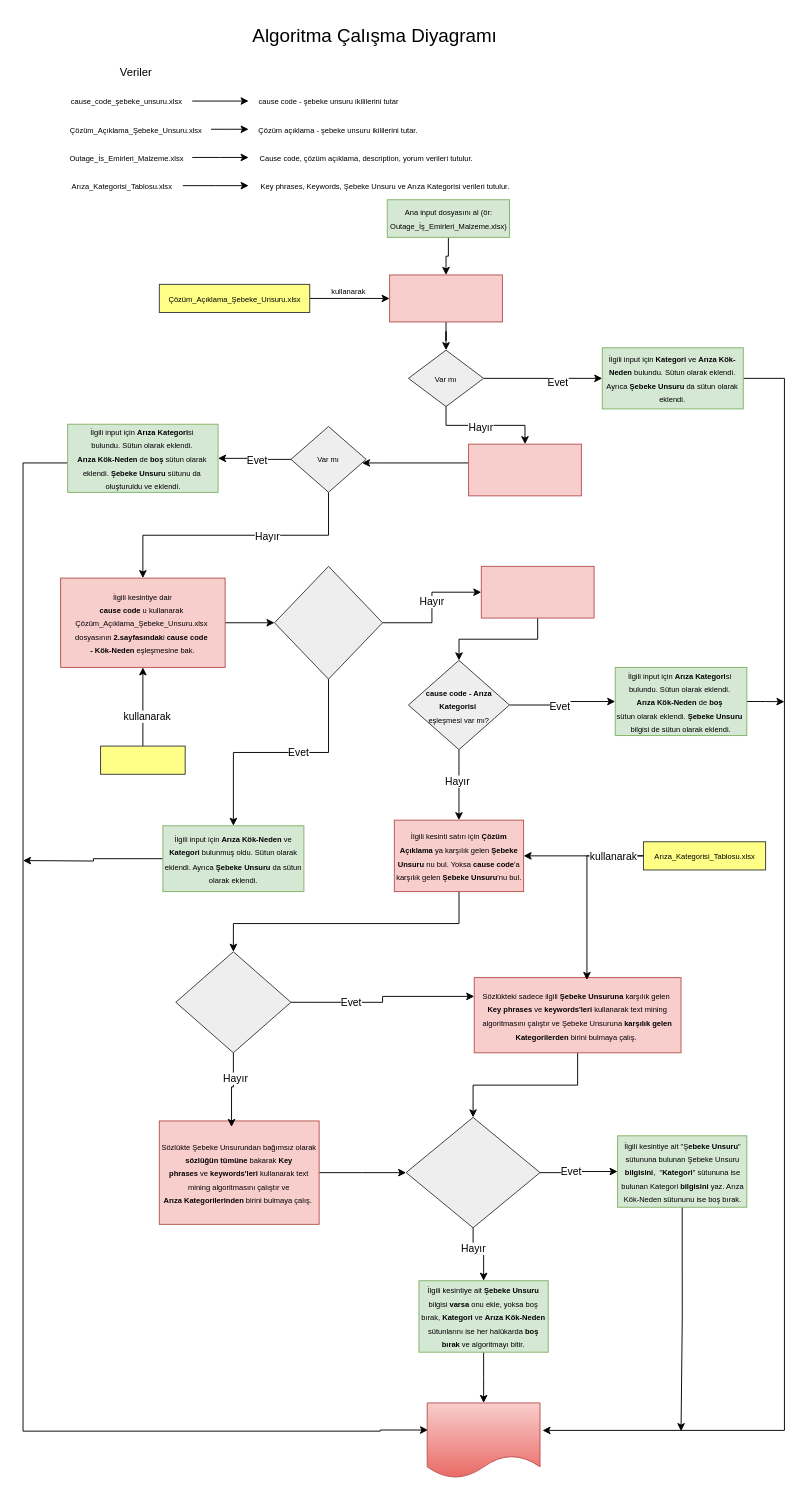
Some shapes in this 808 by 1495 pixel diagram are drawn without their labels. The shapes that lost their labels are listed below. From the top down, each one's centre as x and y in pixels, then its label:
the point at 445,298: Input a karşılık gelen Çözüm Açıklama yı bul. Arıza Kök-Neden verisini çek
the point at 524,469: Çözüm Açıklama ya karşılık gelen Arıza Kategorisi verisini çek
the point at 537,591: cause code - Arıza Kategorisi eşleşmesine bak.
the point at 328,622: cause code - Kök Neden eşleşmesi var mı?
the point at 142,759: Ana input dosyası
the point at 233,1002: Şebeke Unsuru var mı?
the point at 472,1172: Eşleşme sonucu bulunan Kategori'ye ait skor belirli bir threshold'un üstünde mi?
the point at 483,1440: Bitir
